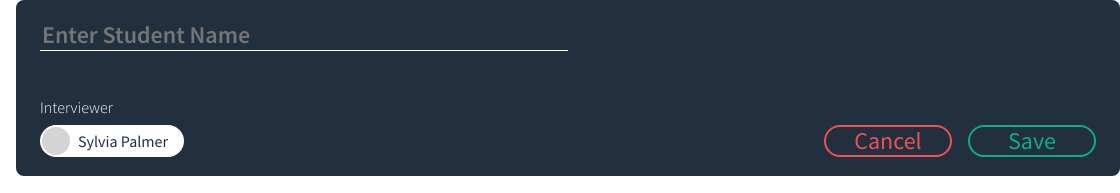
Test case: Form › does not save when student name is empty
Click the button "Save": (1032, 141) [968,125,1096,157]
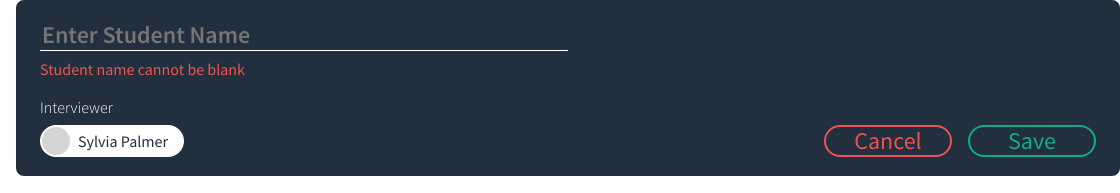
Check: the text "Student name cannot be blank" is shown, box [40,59,245,79]
In the field with placeholder "Enter Student Name": (304, 35) [40,19,568,51], type "Lydia Miller-Jones"
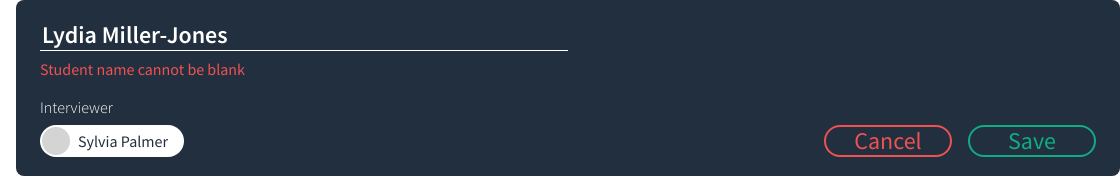
Click the button "Save": (1032, 141) [968,125,1096,157]
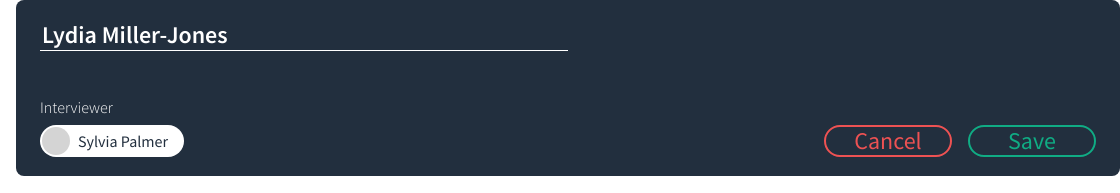
Check: the text "Student name cannot be blank" is gone
